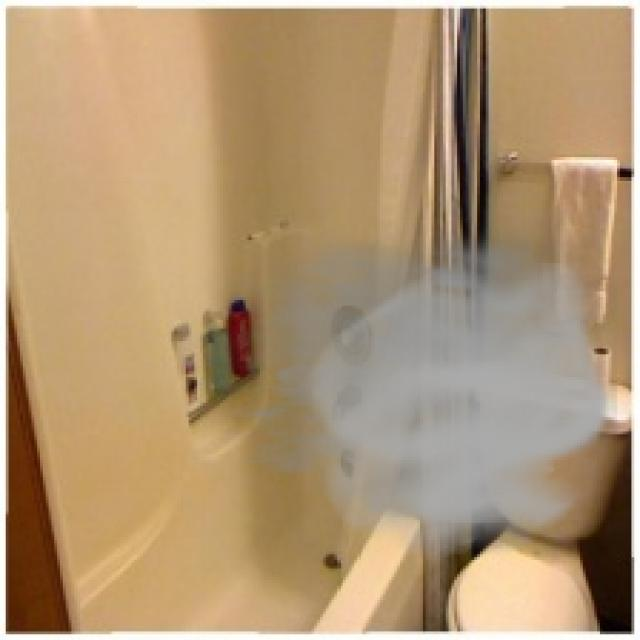smoke: (200, 217, 617, 560)
